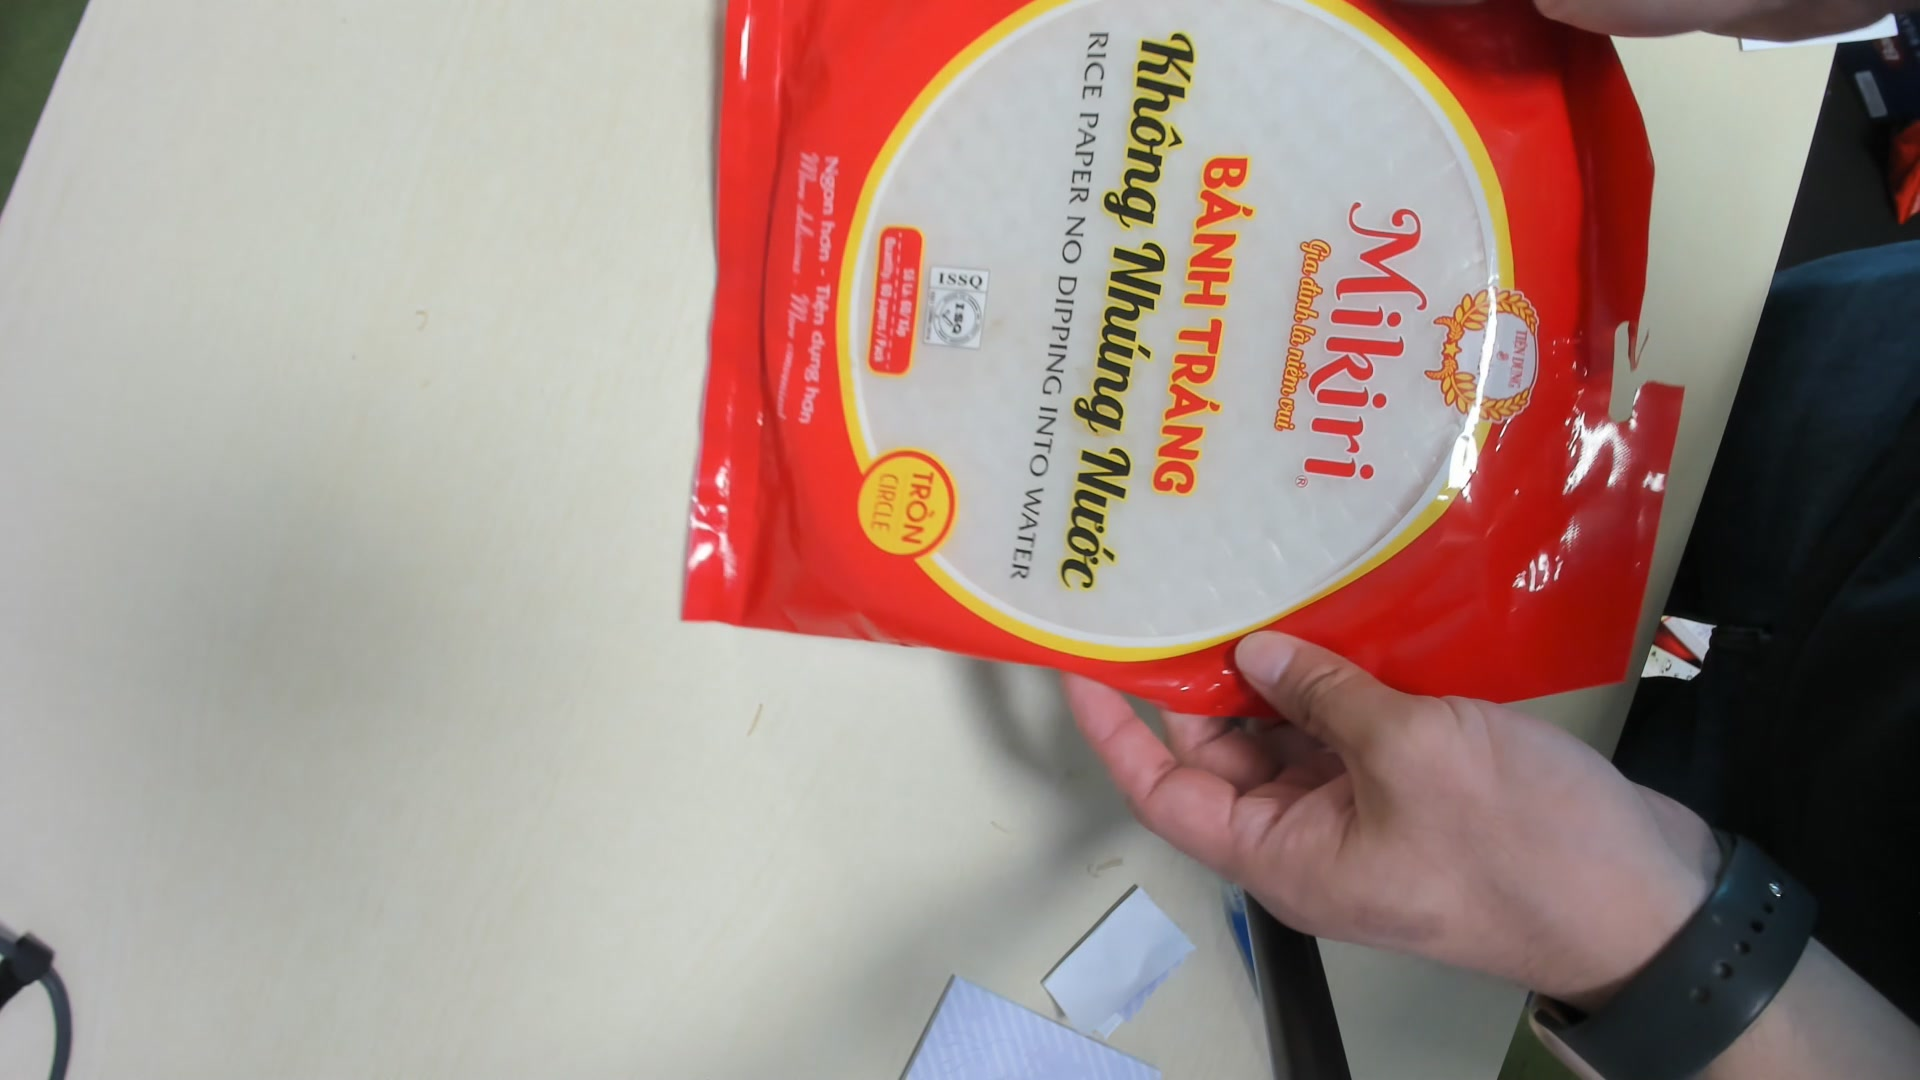InstantMeals_200_299g_NonHalal_NonHealthy: (683, 3, 1709, 715)
